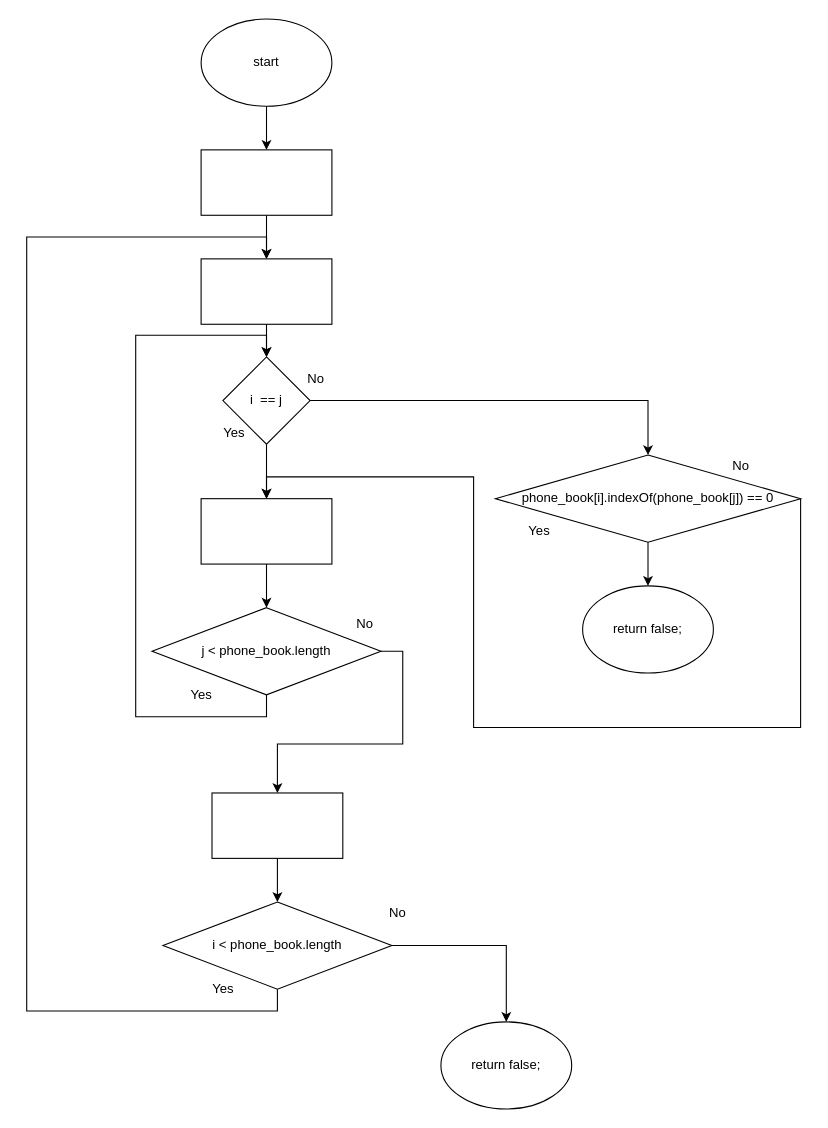
The diagram is 828 pixels wide and 1128 high, and some of its shapes have lost their labels. Each missing label, with the centre of its shape:
i = 0;: point (266, 182)
i++;: point (277, 825)
j = 0;: point (266, 291)
j++;: point (266, 531)
